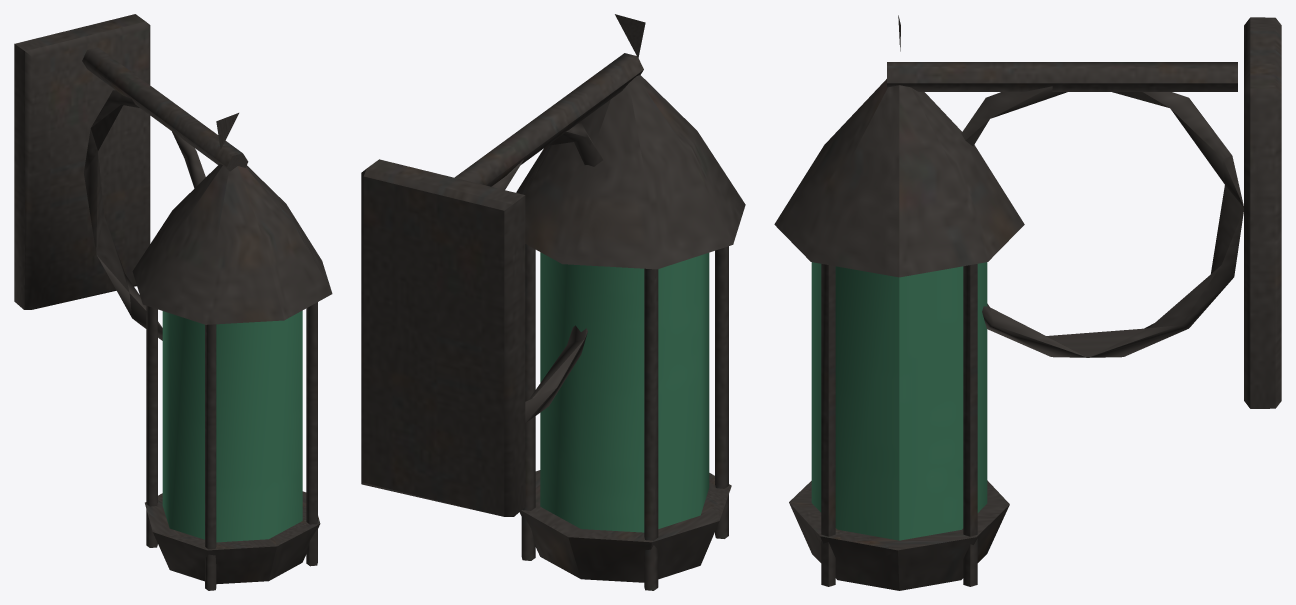
The model's file is wall_lantern_lod1.glb.
3 views of the same model, side by side, from view 1: azimuth 30°, elevation 25°; view 2: azimuth 150°, elevation 25°; view 3: azimuth 270°, elevation 25° (orthographic). The views are drawn at different scales.
Parts seen in each view (by area): view 1: wall_lantern; view 2: wall_lantern; view 3: wall_lantern.
Part boxes in pixels (x1,y1,x2,y2): wall_lantern: (14, 14, 332, 590); wall_lantern: (361, 14, 745, 590); wall_lantern: (774, 15, 1281, 590).
Bounding box in the file's own units: 0.2 × 0.4688 × 0.4049.
1 material, 1 textured.
